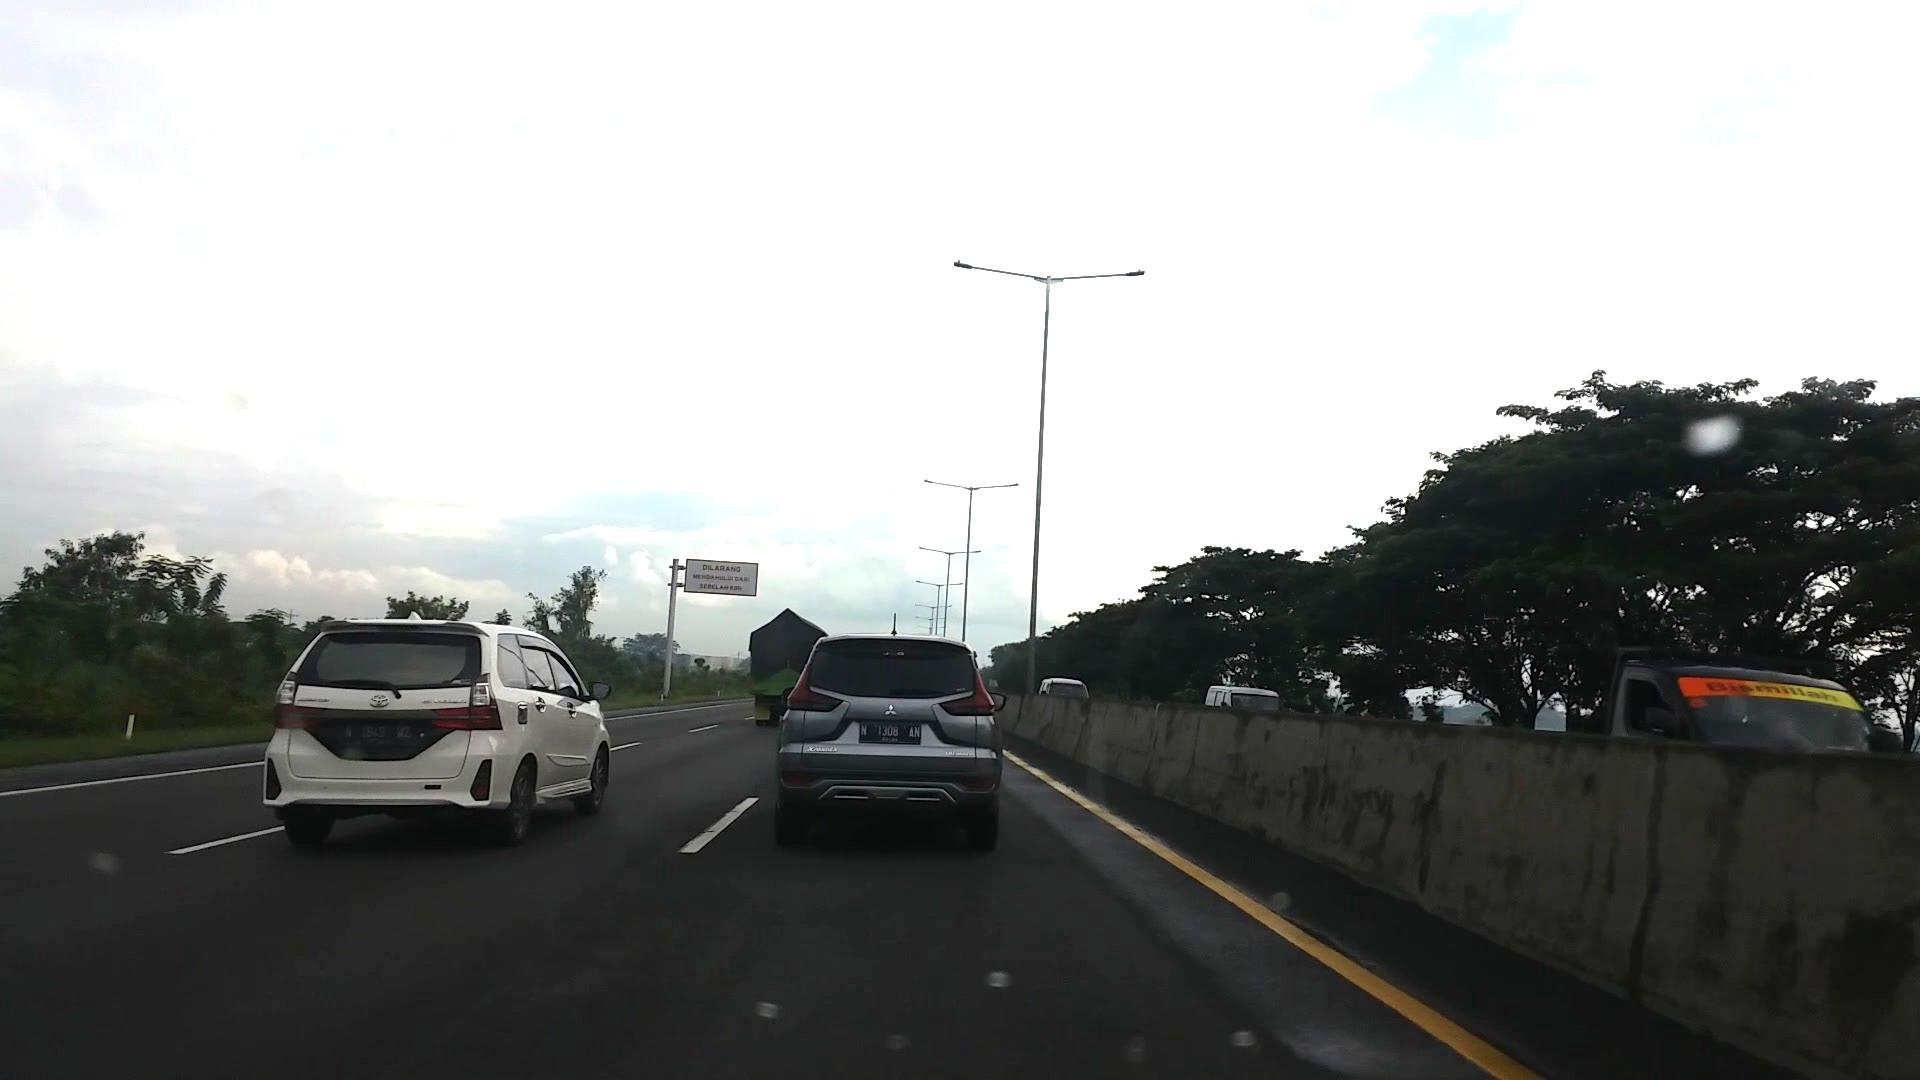plate_positive: (858, 721, 922, 745)
